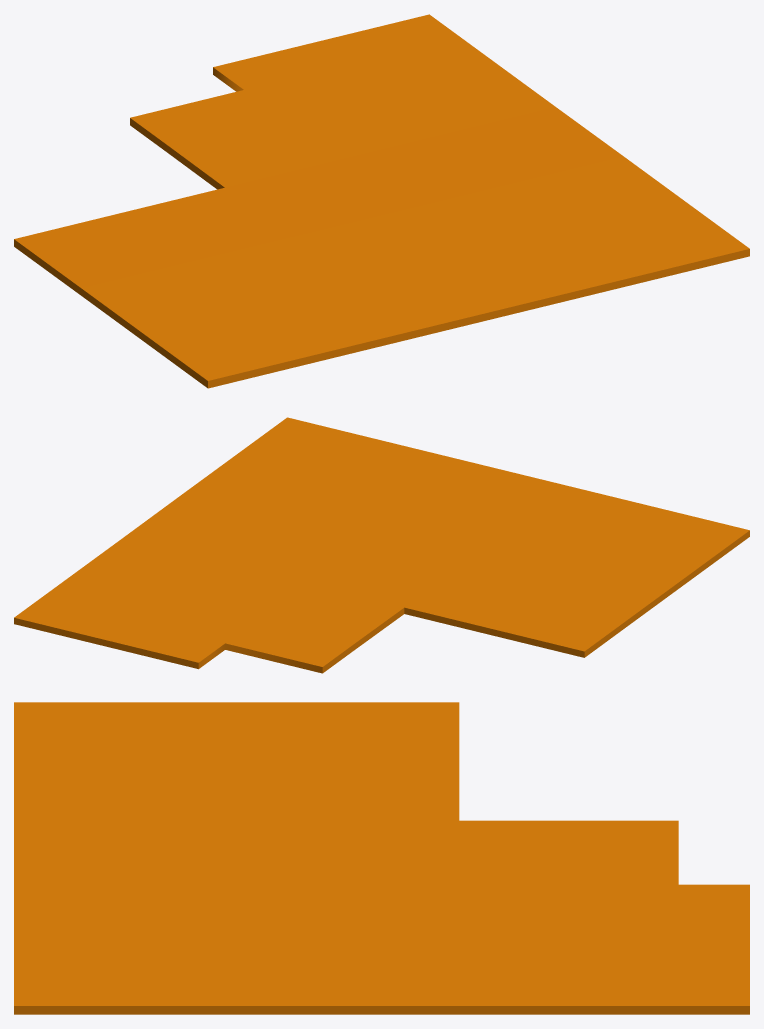
The model's file is S_02_Roof_01.fbx.
3 views of the same model, one above another, from view 1: azimuth 30°, elevation 25°; view 2: azimuth 150°, elevation 25°; view 3: azimuth 270°, elevation 25° (orthographic). The views are drawn at different scales.
Parts seen in each view (by area): view 1: S_02_Roof_01; view 2: S_02_Roof_01; view 3: S_02_Roof_01.
Boxes of the visible parts, left/top/right/bottom form: S_02_Roof_01: left=14, top=14, right=749, bottom=388; S_02_Roof_01: left=14, top=417, right=749, bottom=673; S_02_Roof_01: left=14, top=702, right=749, bottom=1014.
Bounding box in the file's own units: 1487 × 19.98 × 1522.
